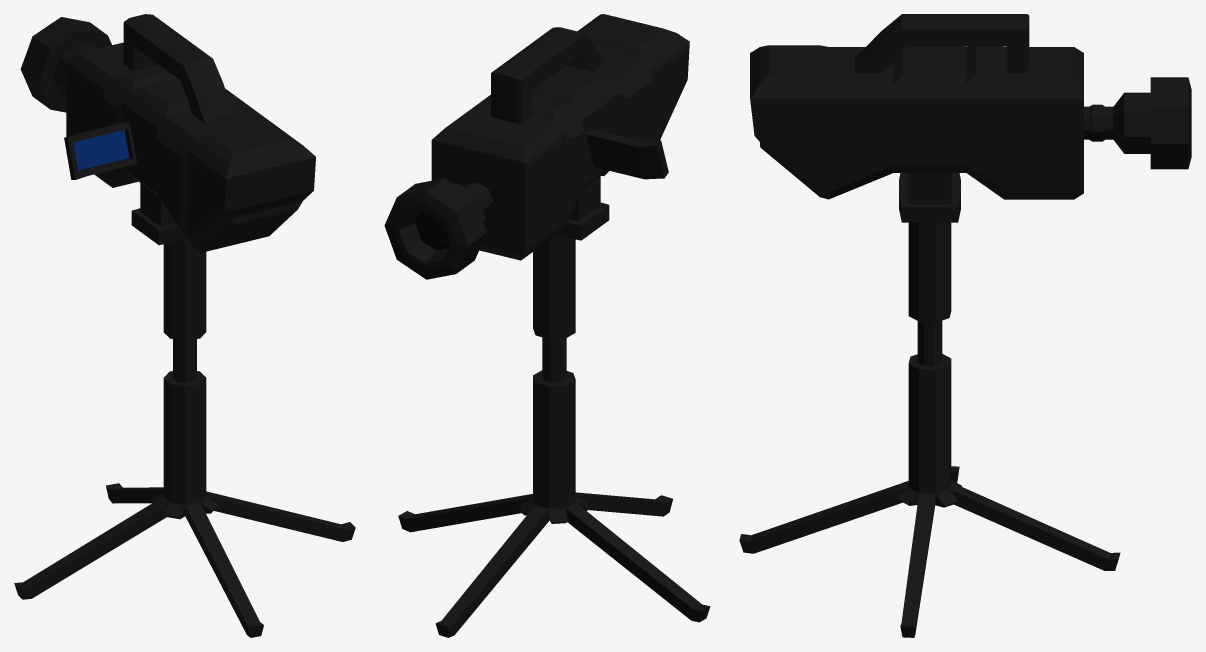
Rendered from CameraV1.fbx.
3 renders of one model, left to right at view 1: azimuth 30°, elevation 25°; view 2: azimuth 150°, elevation 25°; view 3: azimuth 270°, elevation 25°, orthographic. The views are drawn at different scales.
Parts seen in each view (by area): view 1: CameraV1_Camera, CameraV1; view 2: CameraV1_Camera, CameraV1; view 3: CameraV1_Camera, CameraV1.
Boxes of the visible parts, x1,y1,x2,y2 form: CameraV1_Camera: (20, 14, 315, 251); CameraV1: (14, 239, 355, 637); CameraV1_Camera: (384, 14, 689, 279); CameraV1: (398, 235, 710, 637); CameraV1_Camera: (750, 14, 1191, 222); CameraV1: (739, 222, 1120, 637).
Size of the model in its own units: 69.22 by 108 by 82.12.
